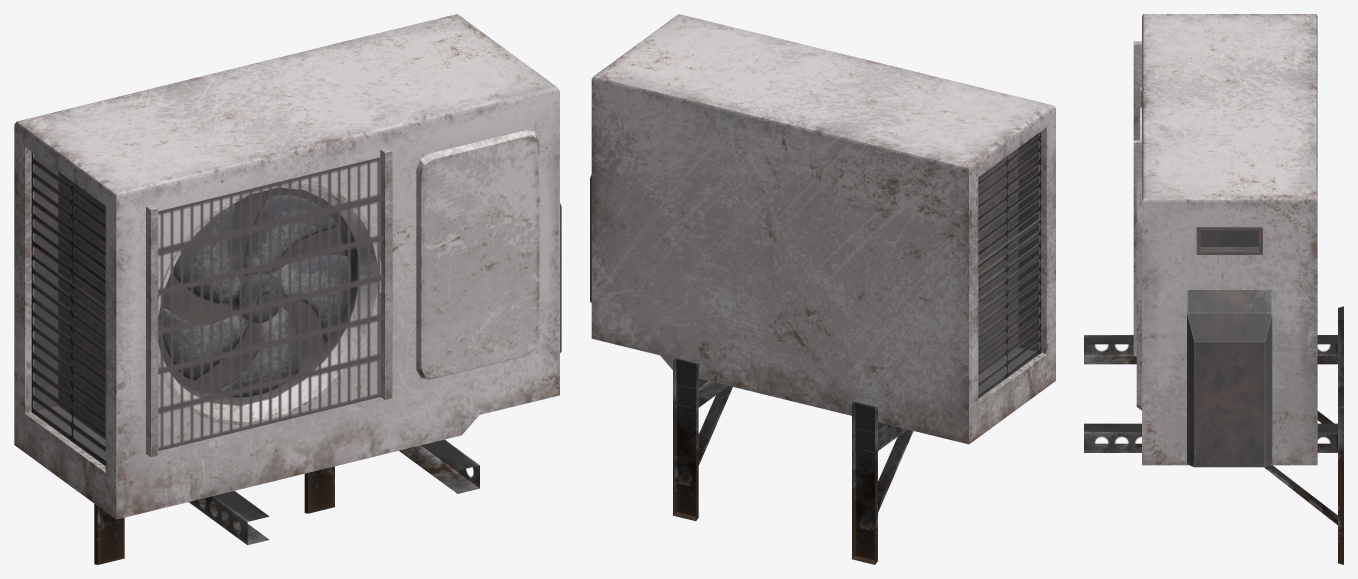
File: dirty_air_conditioner.glb
The picture shows the model from 3 angles, left to right: view 1: azimuth 30°, elevation 25°; view 2: azimuth 150°, elevation 25°; view 3: azimuth 270°, elevation 25°; orthographic projection. The views are drawn at different scales.
Parts seen in each view (by area): view 1: Box, GrateFront, GrateSide, GrateSupport, pCube10 (×2), Blade_05, Blade_04, Blade_03, Blade_01, pCube11 (×2), Blade_02, rotor; view 2: Box, pCube11 (×2), GrateSide, pCube12 (×2); view 3: Box, pCube10 (×2), GrateSupport, pCube11 (×2), pCube12.
Part boxes in pixels (x1,y1,x2,y2): Box: [14, 14, 561, 519]; GrateFront: [158, 156, 383, 450]; GrateSide: [31, 152, 105, 465]; GrateSupport: [146, 147, 392, 457]; pCube10 (×2): [189, 439, 479, 545]; Blade_05: [173, 205, 242, 304]; Blade_04: [243, 194, 335, 276]; Blade_03: [271, 254, 351, 341]; Blade_01: [161, 308, 249, 380]; pCube11 (×2): [94, 466, 334, 564]; Blade_02: [219, 306, 298, 397]; rotor: [228, 268, 283, 322]; Box: [590, 14, 1055, 444]; pCube11 (×2): [673, 358, 877, 564]; GrateSide: [978, 131, 1041, 398]; pCube12 (×2): [678, 386, 913, 530]; Box: [1136, 14, 1317, 467]; pCube10 (×2): [1084, 335, 1337, 452]; GrateSupport: [1133, 41, 1141, 356]; pCube11 (×2): [1338, 306, 1343, 564]; pCube12: [1264, 465, 1337, 524].
Size of the model in its own units: 2.15 by 2.07 by 1.18.
Materials: 2 (2 with a texture image).
